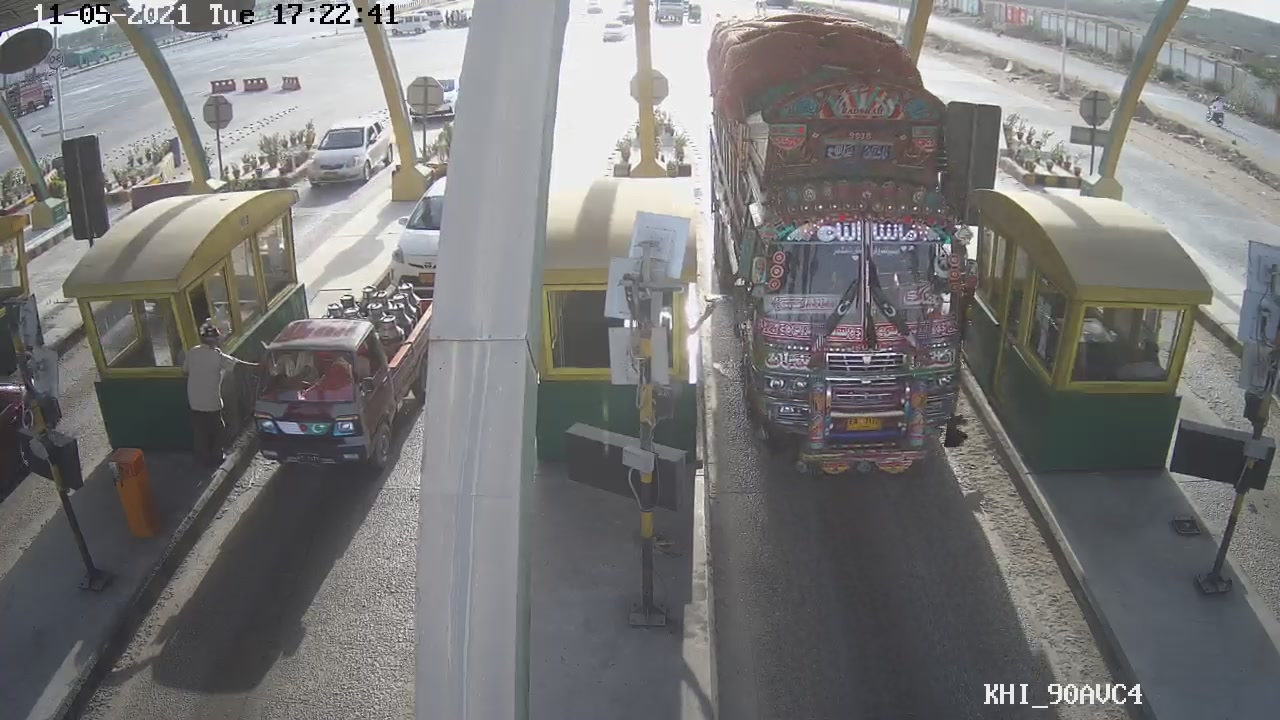F5: (689, 1, 984, 483)
